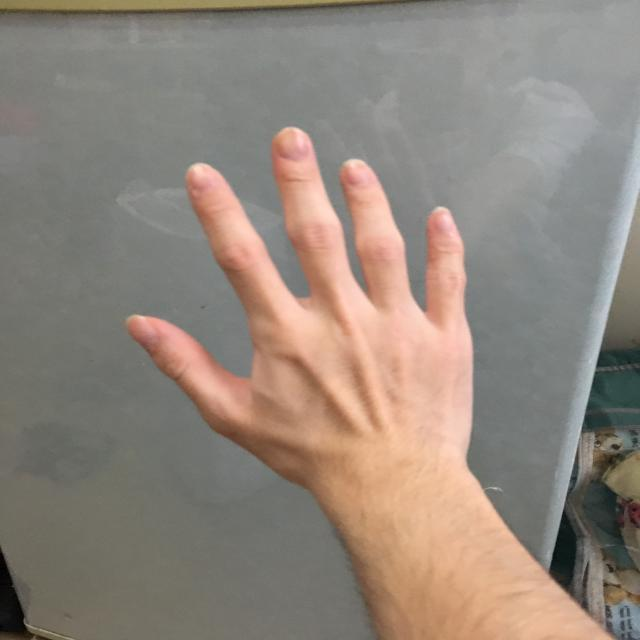no-gloves: (123, 122, 482, 481)
